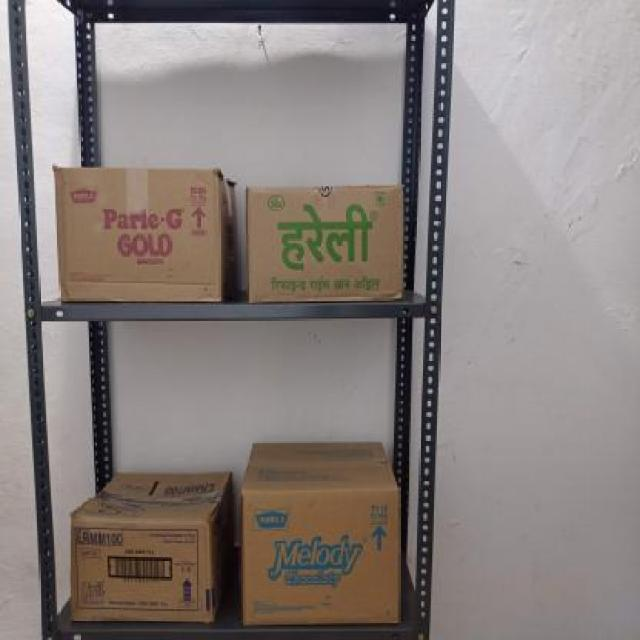box: (49, 166, 223, 302), (240, 490, 403, 626), (245, 187, 407, 300), (73, 518, 210, 618)
